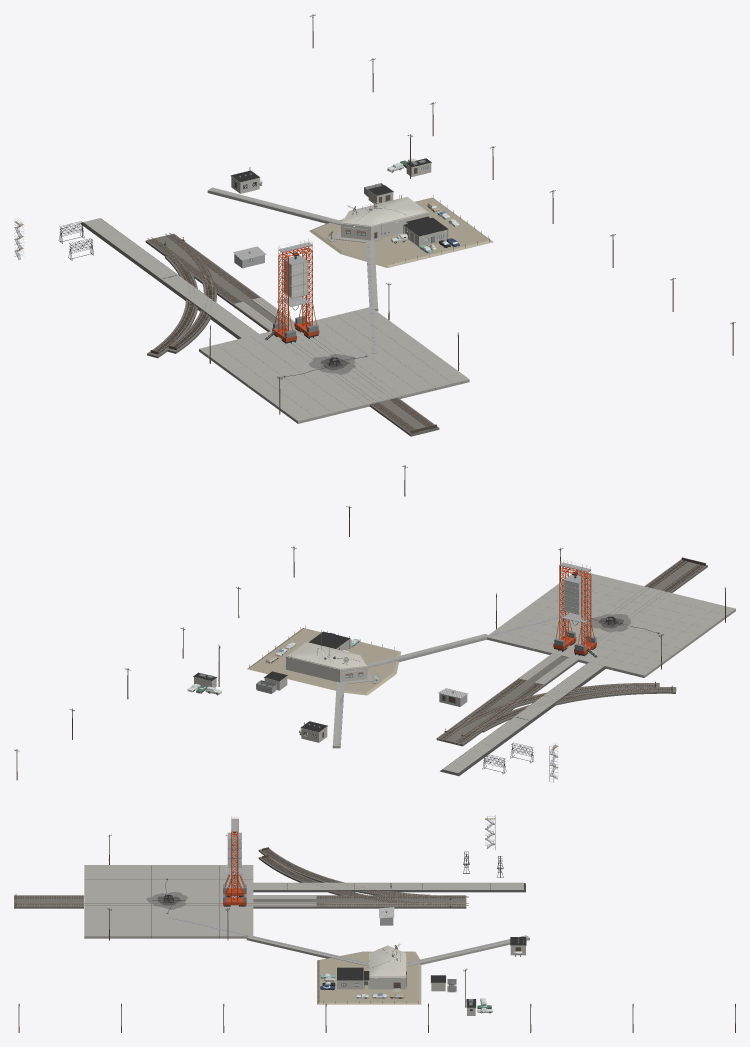
3 views of the same model, one above another, from view 1: azimuth 30°, elevation 25°; view 2: azimuth 150°, elevation 25°; view 3: azimuth 270°, elevation 25° (orthographic). The views are drawn at different scales.
Visible parts, largest first — view 1: Pad6_Concrete, Track_Ballast, Blockhouse_Shell, Track_Tie, Road_Concrete, Pad6Gantry_Red, Track_Rail, Blockhouse_BunkerRoof, CableTrenches_ConcreteTrench, Track_BallastSpur, Blockhouse_Bunker, Road_Joint (+2 smaller); view 2: Pad6_Concrete, Track_Ballast, Blockhouse_Shell, Track_Tie, Road_Concrete, Track_Rail, Pad6Gantry_Red, Track_BallastSpur, Blockhouse_BunkerRoof, Blockhouse_Bunker, CableTrenches_ConcreteTrench, Track_Concrete (+2 smaller); view 3: Pad6_Concrete, Track_Ballast, Blockhouse_Shell, Road_Concrete, Track_Rail, Track_Tie, Track_BallastSpur, CableTrenches_ConcreteTrench, Blockhouse_BunkerRoof, Pad6Gantry_Red, Road_Joint, Track_Concrete (+5 smaller).
Boxes of the visible parts, x1,y1,x2,y2 form: Pad6_Concrete: [199, 307, 469, 423]; Track_Ballast: [145, 233, 439, 436]; Blockhouse_Shell: [309, 197, 493, 267]; Track_Tie: [148, 234, 437, 433]; Road_Concrete: [83, 218, 258, 337]; Pad6Gantry_Red: [272, 245, 319, 341]; Track_Rail: [147, 232, 432, 430]; Blockhouse_BunkerRoof: [342, 197, 427, 225]; CableTrenches_ConcreteTrench: [207, 187, 378, 311]; Track_BallastSpur: [147, 256, 216, 358]; Blockhouse_Bunker: [341, 197, 429, 240]; Road_Joint: [80, 218, 258, 338]; Pad6_Concrete: [486, 570, 735, 677]; Track_Ballast: [436, 559, 707, 746]; Blockhouse_Shell: [247, 628, 401, 695]; Track_Tie: [439, 557, 705, 743]; Road_Concrete: [443, 662, 604, 773]; Track_Rail: [438, 560, 703, 744]; Pad6Gantry_Red: [553, 565, 596, 654]; Track_BallastSpur: [482, 683, 676, 732]; Blockhouse_BunkerRoof: [288, 642, 366, 668]; Blockhouse_Bunker: [286, 642, 367, 682]; CableTrenches_ConcreteTrench: [332, 633, 487, 748]; Track_Concrete: [518, 653, 577, 684]; Pad6_Concrete: [84, 865, 253, 938]; Track_Ballast: [14, 895, 466, 908]; Blockhouse_Shell: [317, 951, 421, 1004]; Road_Concrete: [253, 882, 523, 889]; Track_Rail: [16, 849, 468, 905]; Track_Tie: [14, 847, 464, 907]; Track_BallastSpur: [258, 848, 430, 895]; CableTrenches_ConcreteTrench: [246, 935, 529, 966]; Blockhouse_BunkerRoof: [370, 945, 405, 976]; Pad6Gantry_Red: [223, 819, 246, 905]; Road_Joint: [253, 883, 525, 892]; Track_Concrete: [253, 895, 316, 906].
Size of the model in its own units: 157 by 34.28 by 260.
